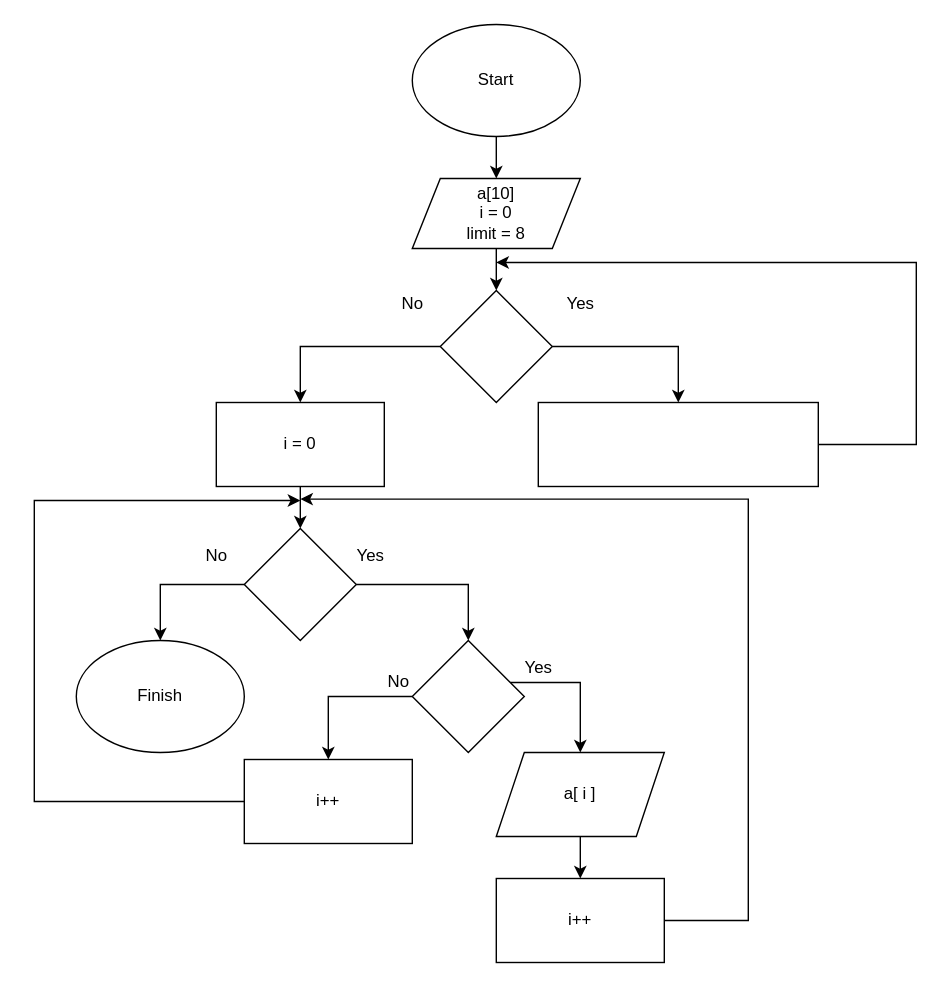
This 952x987 diagram has some shape labels left out. The box of each missing label's shape, as (x1, y1, x2, y2) in pixels:
a[ i ] = random.Next(-50,50) i++: (537, 401, 818, 486)
a[ i ] > limit: (411, 639, 524, 752)
i < 10: (243, 527, 356, 640)
i<10: (439, 289, 552, 402)
